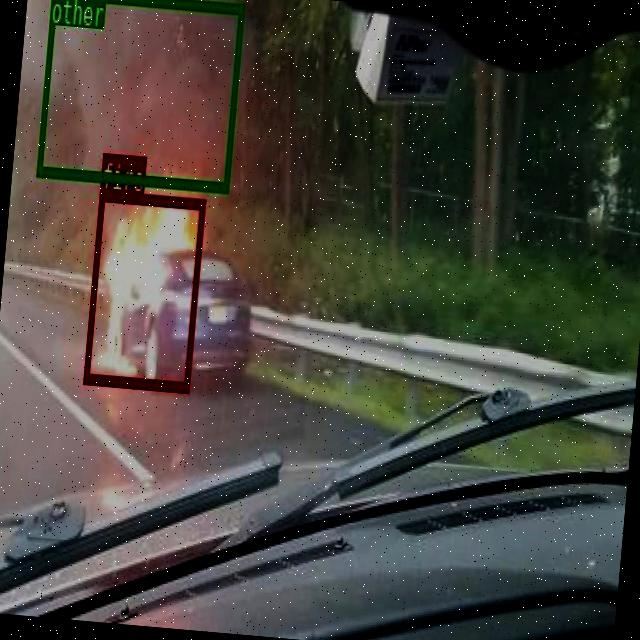fire: (82, 188, 204, 390)
